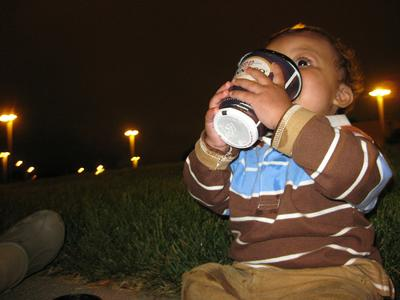person: (176, 22, 399, 300)
